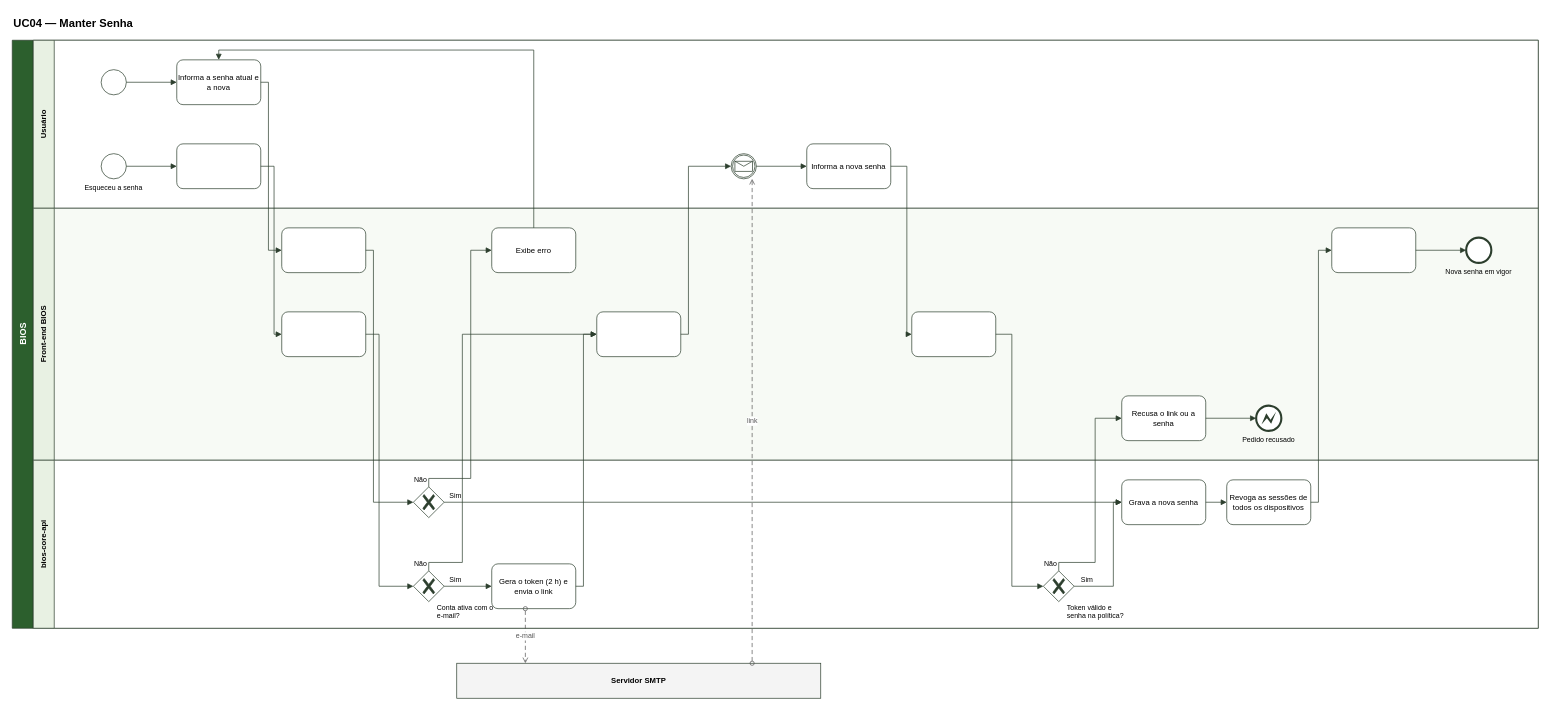
Image size: 1551x711. Some labels were removed from this diagram. The shapes that lost their labels are listed below. From the top down, each one's centre as x and y in pixels, then its label:
point 113,82: Quer alterar a senha (com sessão)
point 218,166: Informa o e-mail
point 743,166: Recebe o link
point 323,250: Envia POST /auth/change-password
point 1373,250: Exibe o login
point 323,334: Envia POST /auth/forgot-password
point 638,334: Mostra sempre a mesma confirmação
point 953,334: Envia POST /auth/reset-password
point 428,502: Senha atual confere?
